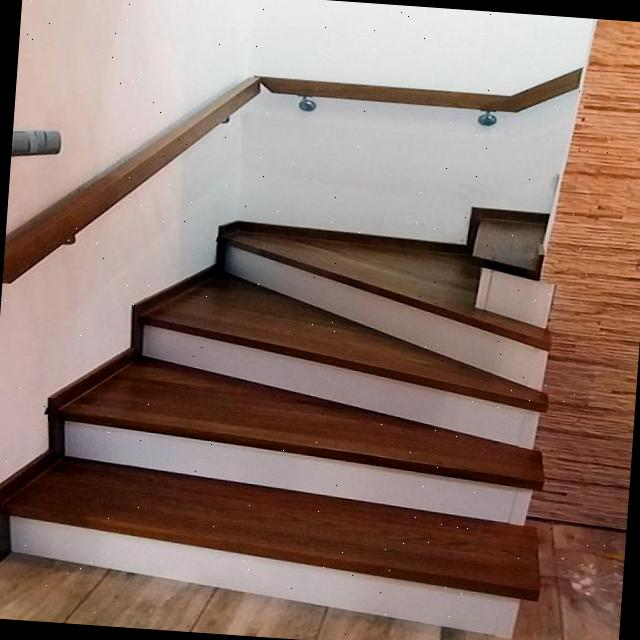stairs: (0, 191, 566, 640)
